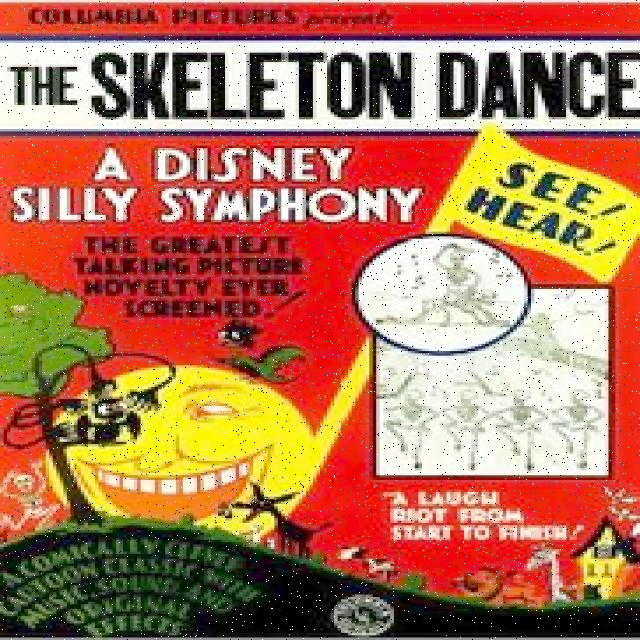movie-judul: (8, 37, 640, 131)
picture: (0, 283, 361, 534)
